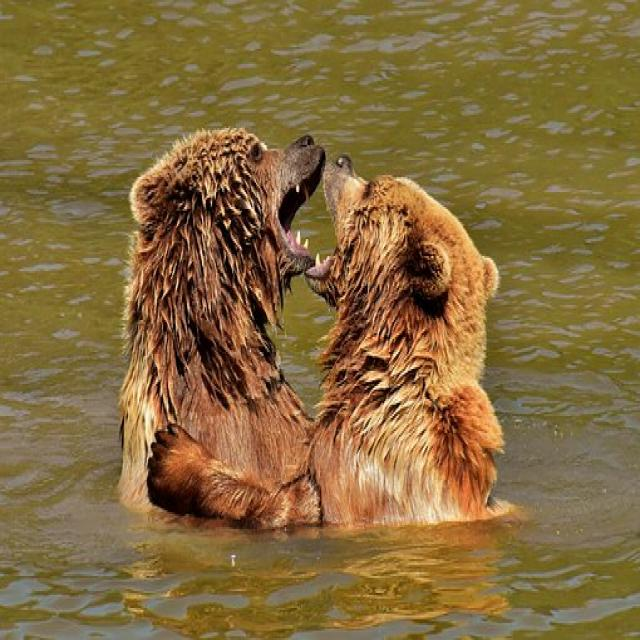Bear: (117, 132, 335, 533), (310, 158, 503, 523)
